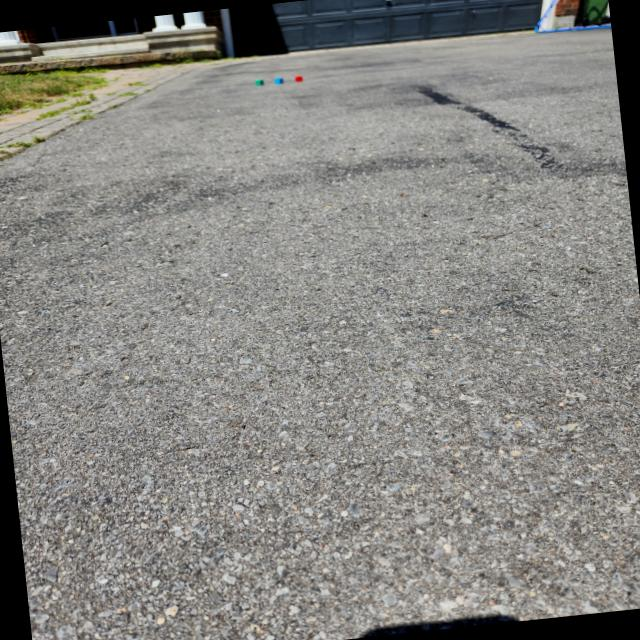bluecube: (274, 77, 283, 83)
green cube: (255, 79, 263, 85)
red cube: (294, 75, 302, 81)
